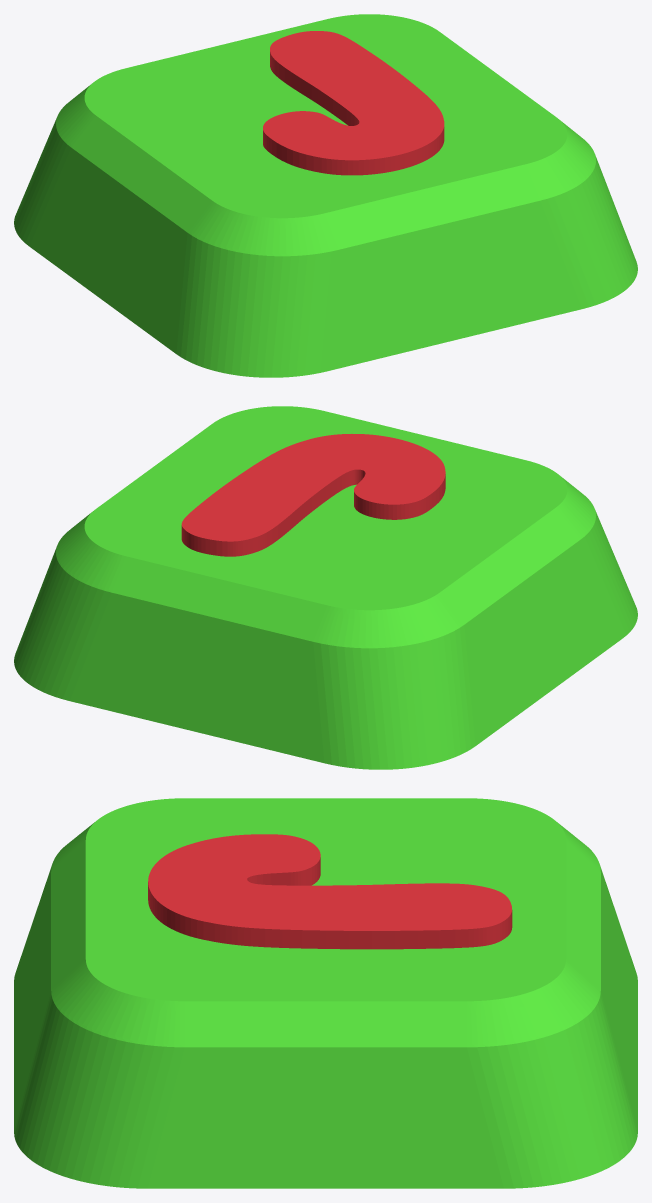
3 views of the same model, one above another, from view 1: azimuth 30°, elevation 25°; view 2: azimuth 150°, elevation 25°; view 3: azimuth 270°, elevation 25° (orthographic). The views are drawn at different scales.
Parts seen in each view (by area): view 1: CAPS_J, FONT_J; view 2: CAPS_J, FONT_J; view 3: CAPS_J, FONT_J.
Part boxes in pixels (x1,y1,x2,y2): CAPS_J: (14,14,637,377); FONT_J: (263,31,444,175); CAPS_J: (14,406,637,769); FONT_J: (181,434,445,556); CAPS_J: (14,798,637,1188); FONT_J: (148,834,512,949).
Bounding box in the file's own units: 18 × 5.59 × 18.
